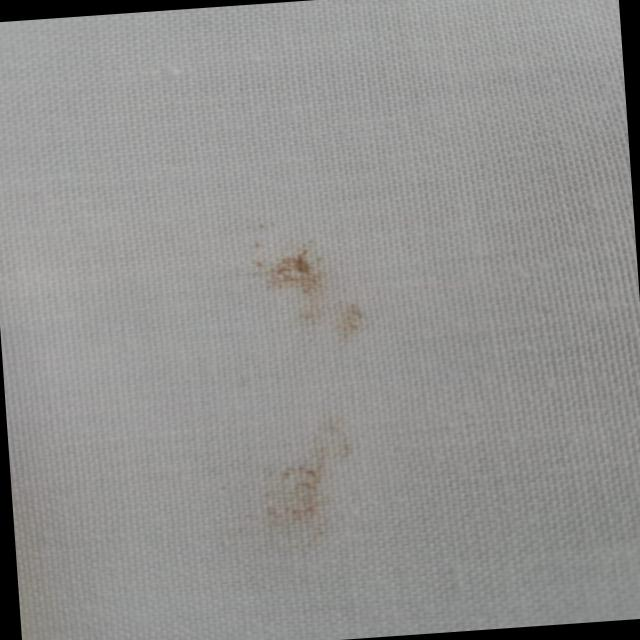stain: (226, 208, 377, 355), (245, 402, 373, 558)
